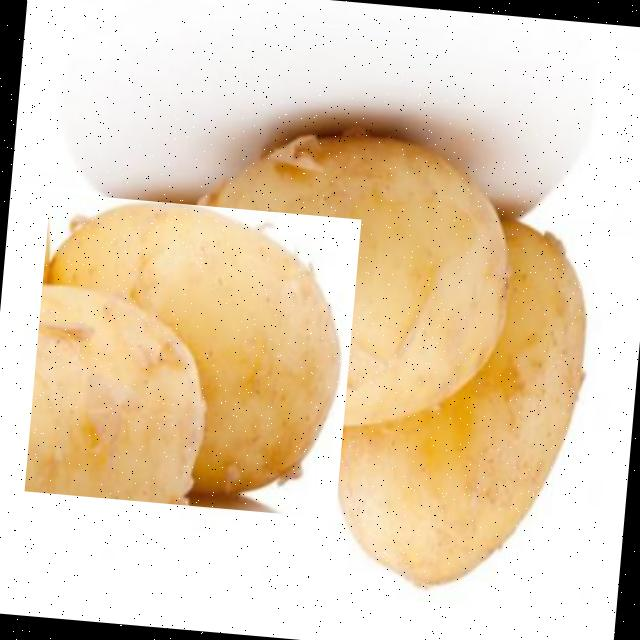Potato: (310, 186, 614, 597), (170, 100, 524, 434), (24, 192, 361, 518)
